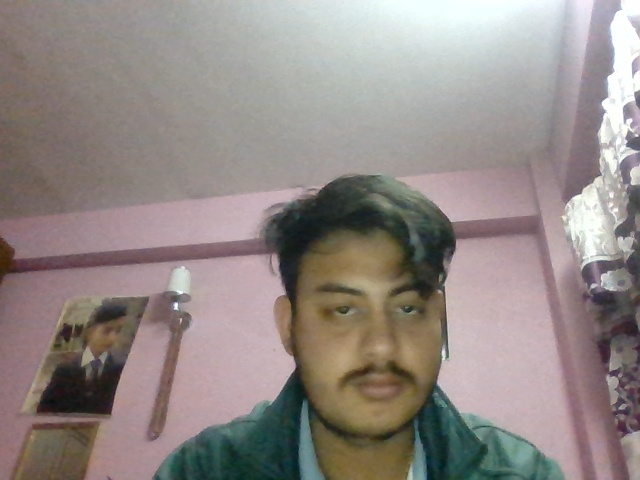no mask: (284, 326, 468, 440)
